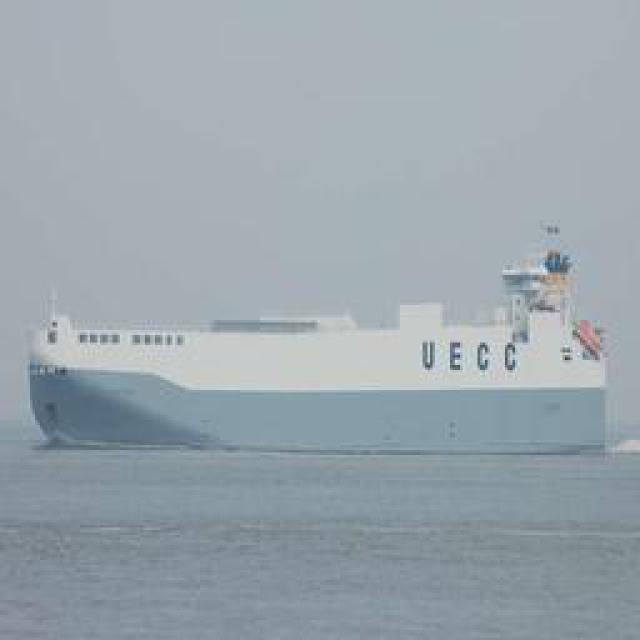Ship: (27, 221, 617, 446)
